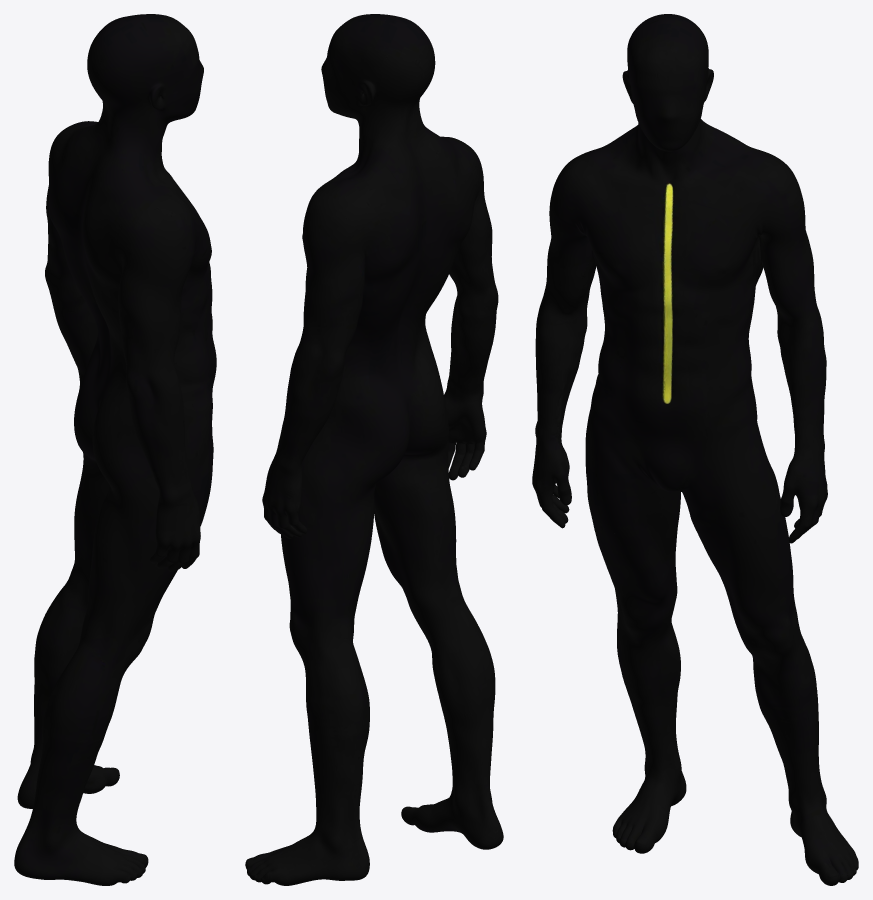
File: woetive-figure.glb
3 renders of one model, left to right at view 1: azimuth 30°, elevation 25°; view 2: azimuth 150°, elevation 25°; view 3: azimuth 270°, elevation 25°, orthographic. The views are drawn at different scales.
Bounding box in the file's own units: 0.4825 × 2 × 0.7055.
Materials: 1 (1 with a texture image).
